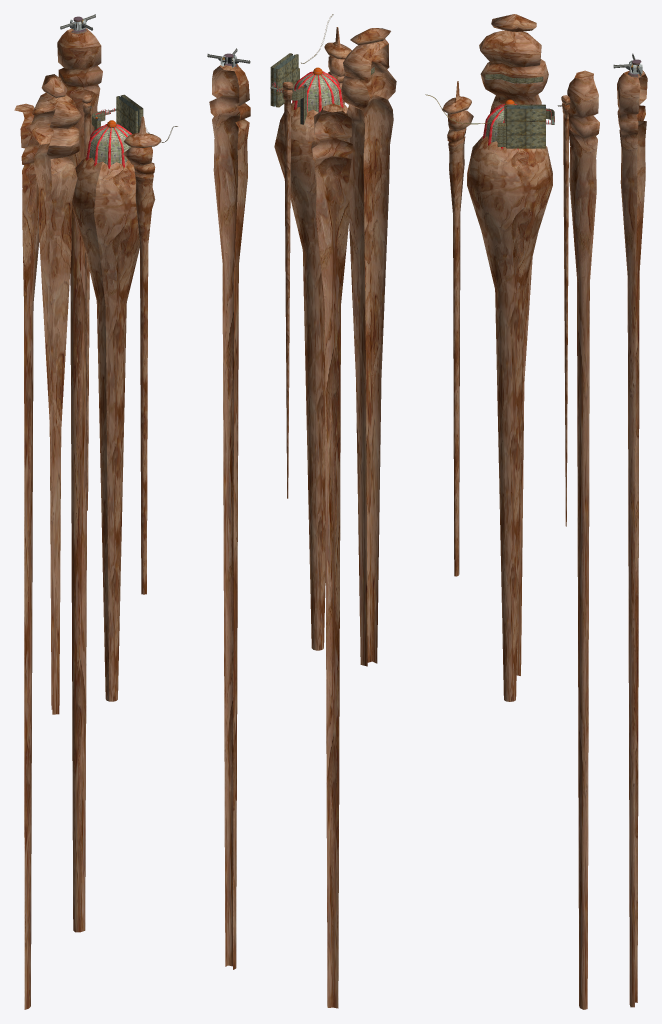
The model's file is Bullet Station 2.fbx.
3 renders of one model, left to right at view 1: azimuth 30°, elevation 25°; view 2: azimuth 150°, elevation 25°; view 3: azimuth 270°, elevation 25°, orthographic. The views are drawn at different scales.
Parts seen in each view (by area): view 1: STG08_ON_02; view 2: STG08_ON_02; view 3: STG08_ON_02.
Boxes of the visible parts, <box> form: STG08_ON_02: <box>14,14,177,1009</box>; STG08_ON_02: <box>207,14,396,1008</box>; STG08_ON_02: <box>425,14,647,1009</box>.
Size of the model in its own units: 650414 by 5028157 by 1024448.
